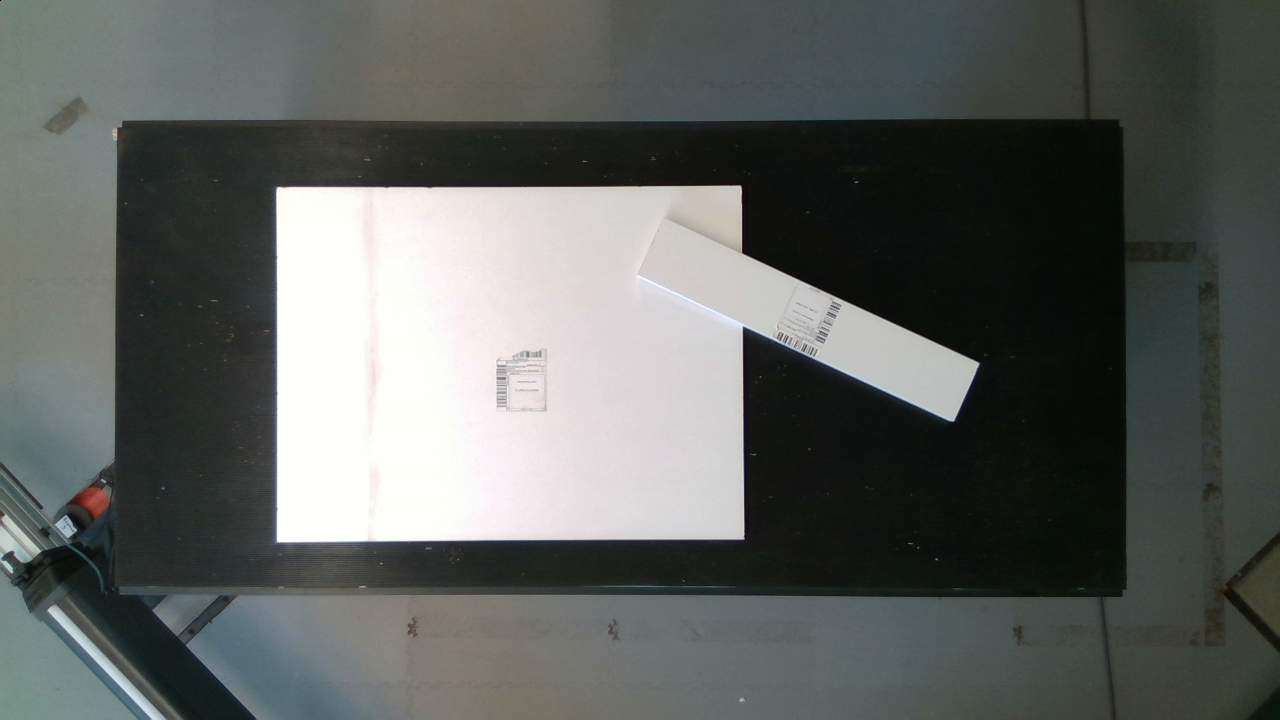barcode: (762, 265, 848, 371), (490, 335, 564, 427)
part1: (634, 200, 987, 427)
part2: (256, 172, 762, 557)
